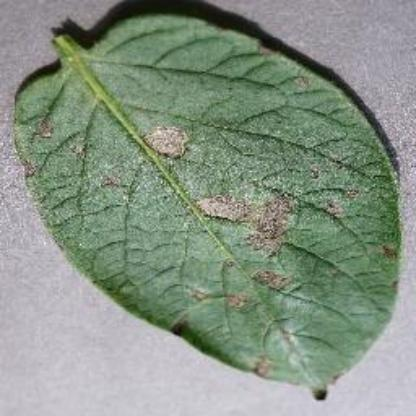Early-Blight: (14, 0, 403, 402)
